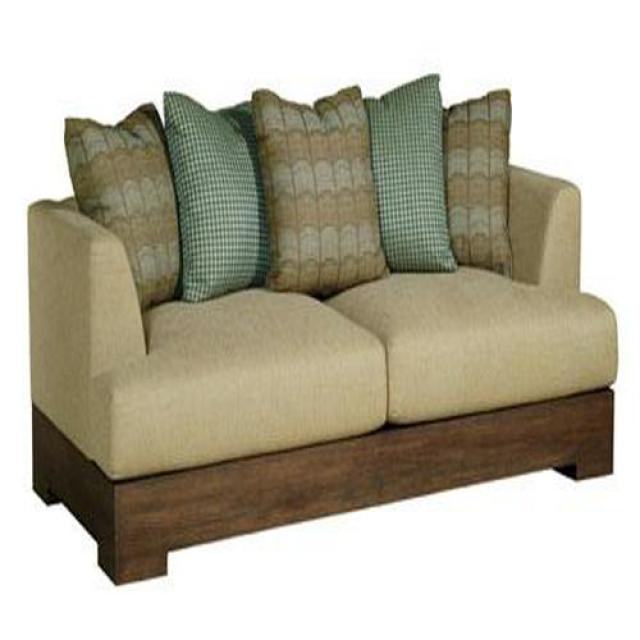sofa: (27, 78, 620, 586)
